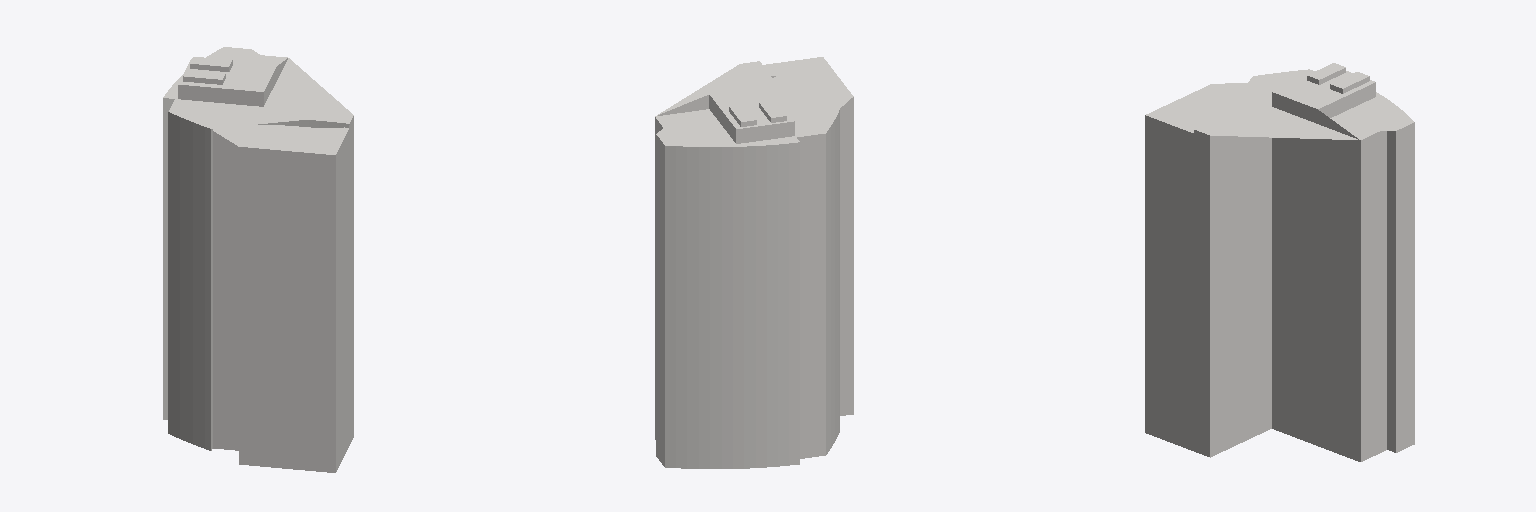
File: Sailing+Tower.obj
3 views of the same model, side by side, from view 1: azimuth 30°, elevation 25°; view 2: azimuth 150°, elevation 25°; view 3: azimuth 270°, elevation 25° (orthographic).
Parts seen in each view (by area): view 1: Mesh1 Sailing_Tower1 Model; view 2: Mesh1 Sailing_Tower1 Model; view 3: Mesh1 Sailing_Tower1 Model.
Part boxes in pixels (x1,y1,x2,y2): Mesh1 Sailing_Tower1 Model: (163,47,353,472); Mesh1 Sailing_Tower1 Model: (655,57,853,468); Mesh1 Sailing_Tower1 Model: (1145,63,1414,461).
Bounding box in the file's own units: 41.62 × 93.33 × 66.71.